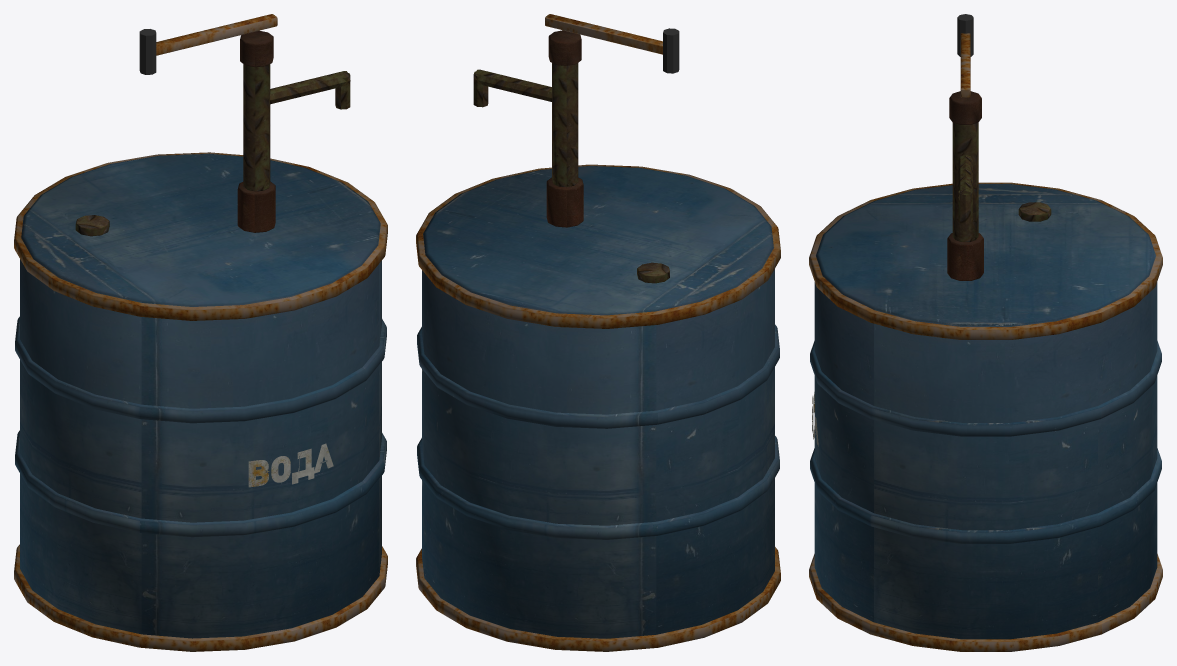
Rendered from deploy_barrel.gltf.
3 views of the same model, side by side, from view 1: azimuth 30°, elevation 25°; view 2: azimuth 150°, elevation 25°; view 3: azimuth 270°, elevation 25° (orthographic). The views are drawn at different scales.
Visible parts, largest first — view 1: cyl, cyl.002, cyl.004, cyl.003, cyl.001, cyl.007, box, cyl.006, stencil, cyl.010, cyl.008, cyl.009 (+1 smaller); view 2: cyl, cyl.002, cyl.004, cyl.003, cyl.001, cyl.007, box, cyl.006, cyl.010, cyl.008, cyl.009, cyl.005; view 3: cyl, cyl.002, cyl.004, cyl.003, cyl.001, cyl.007, cyl.006, cyl.008, box, cyl.010, cyl.005.
Boxes of the visible parts, x1,y1,x2,y2 form: cyl: (20, 153, 381, 638); cyl.002: (14, 152, 387, 320); cyl.004: (15, 316, 386, 423); cyl.003: (15, 430, 386, 537); cyl.001: (14, 544, 387, 651); cyl.007: (243, 64, 270, 191); box: (156, 14, 277, 55); cyl.006: (237, 181, 275, 232); stencil: (248, 443, 333, 487); cyl.010: (270, 71, 350, 104); cyl.008: (240, 30, 273, 67); cyl.009: (139, 29, 156, 74); cyl: (422, 166, 774, 638); cyl.002: (416, 164, 780, 328); cyl.004: (417, 324, 779, 428); cyl.003: (417, 436, 779, 539); cyl.001: (416, 547, 780, 651); cyl.007: (552, 63, 578, 187); box: (545, 14, 662, 54); cyl.006: (546, 177, 583, 227); cyl.010: (473, 69, 552, 101); cyl.008: (548, 30, 581, 65); cyl.009: (663, 28, 679, 73); cyl.005: (637, 262, 669, 283); cyl: (814, 184, 1157, 639); cyl.002: (809, 182, 1162, 339); cyl.004: (810, 341, 1161, 436); cyl.003: (810, 448, 1161, 543); cyl.001: (809, 554, 1162, 651); cyl.007: (952, 122, 978, 241); cyl.006: (947, 233, 983, 280); cyl.008: (949, 91, 981, 124); box: (960, 33, 970, 97); cyl.010: (958, 154, 972, 200); cyl.005: (1018, 202, 1051, 221).
Bounding box in the file's own units: 0.8592 × 1.44 × 0.868.
6 materials, 5 textured.
